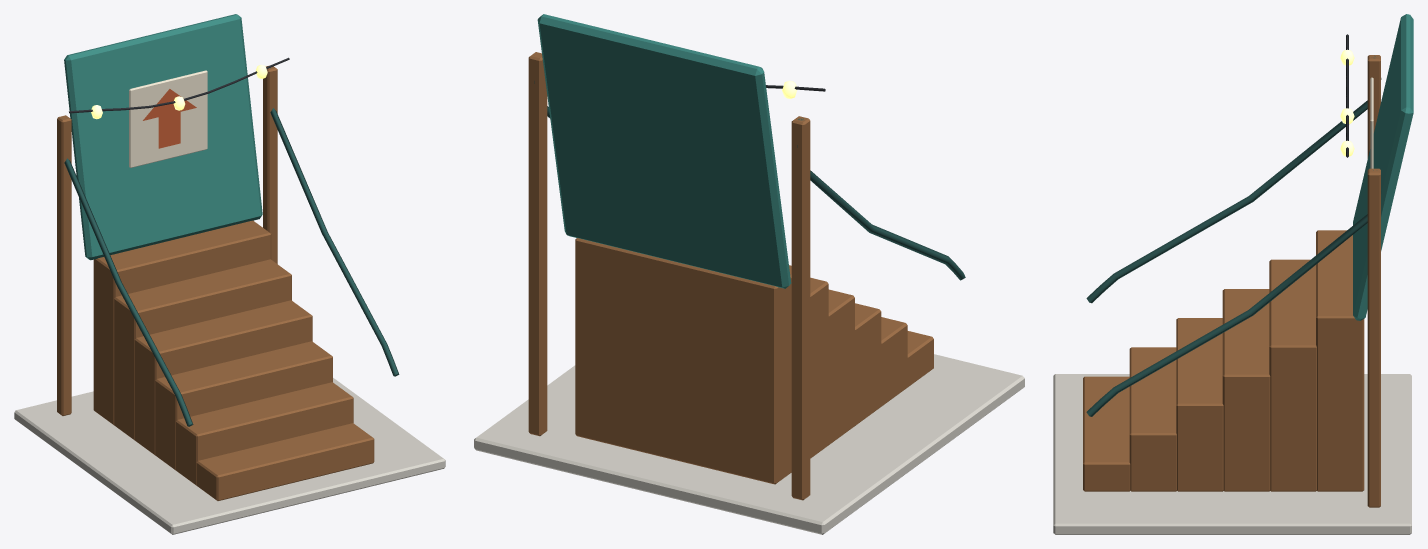
The model's file is kit_exit_hatch.glb.
3 views of the same model, side by side, from view 1: azimuth 30°, elevation 25°; view 2: azimuth 150°, elevation 25°; view 3: azimuth 270°, elevation 25° (orthographic). The views are drawn at different scales.
Parts seen in each view (by area): view 1: kit_exit_hatch_mesh; view 2: kit_exit_hatch_mesh; view 3: kit_exit_hatch_mesh.
Part boxes in pixels (left/top/right/bottom): kit_exit_hatch_mesh: left=14, top=14, right=445, bottom=534; kit_exit_hatch_mesh: left=474, top=14, right=1024, bottom=534; kit_exit_hatch_mesh: left=1053, top=14, right=1413, bottom=534.
Size of the model in its own units: 2 by 2.46 by 2.01.
